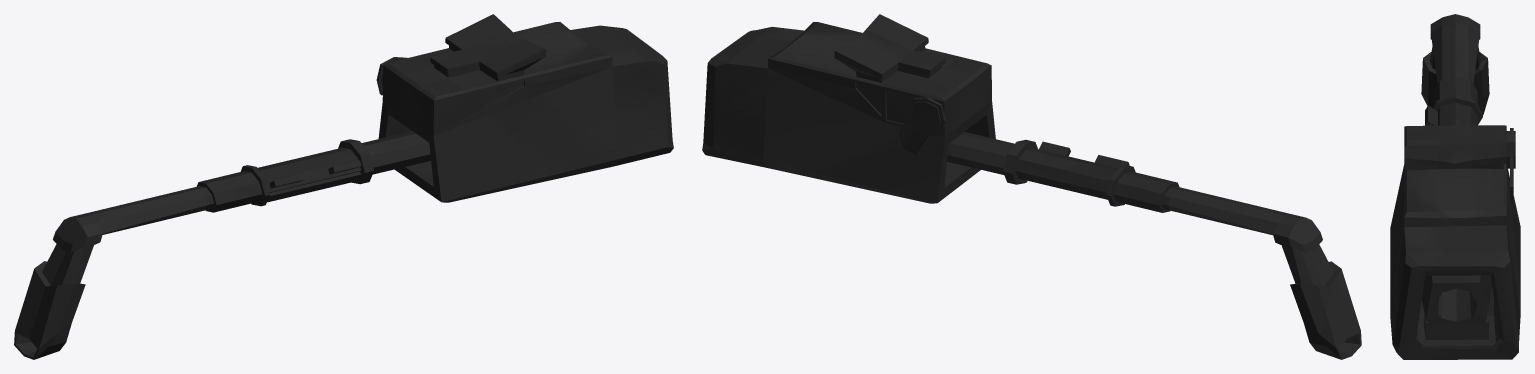
File: GasTube.fbx
The picture shows the model from 3 angles, left to right: view 1: azimuth 30°, elevation 25°; view 2: azimuth 150°, elevation 25°; view 3: azimuth 270°, elevation 25°; orthographic projection. The views are drawn at different scales.
Parts seen in each view (by area): view 1: GasTube; view 2: GasTube; view 3: GasTube.
Part boxes in pixels (x1,y1,x2,y2): GasTube: [14, 14, 673, 359]; GasTube: [702, 14, 1361, 359]; GasTube: [1390, 14, 1520, 359].
Bounding box in the file's own units: 63.3 × 19.81 × 11.03.
